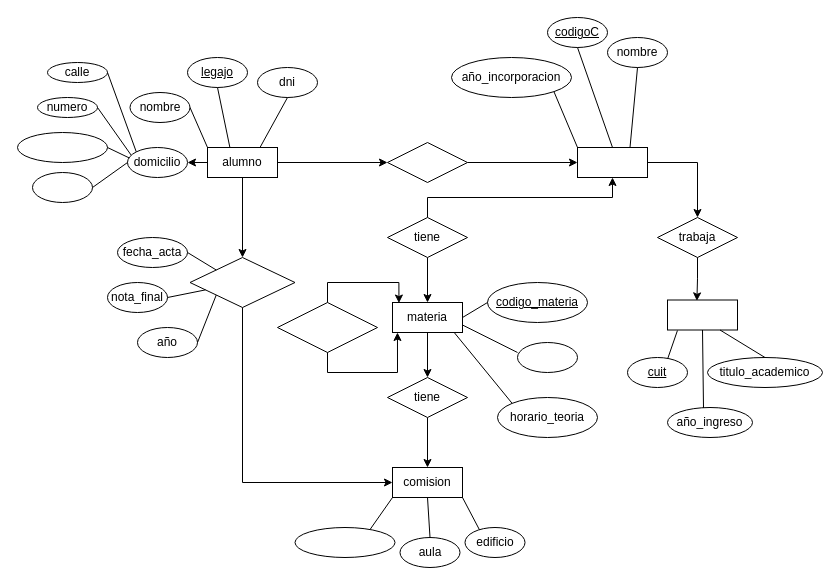
Some shapes in this 840 by 585 pixel diagram are drawn without their labels. Here are the shapes that lost their labels. From the top down, the centre of each, then its label:
At point 62,147: "codigo_postal".
At point 427,162: "inscrito".
At point 612,162: "carrera".
At point 62,187: "ciudad".
At point 242,282: "inscripcion_en".
At point 327,327: "correlativa_de".
At point 702,314: "docente".
At point 547,357: "dia".
At point 344,542: "num_comision".
